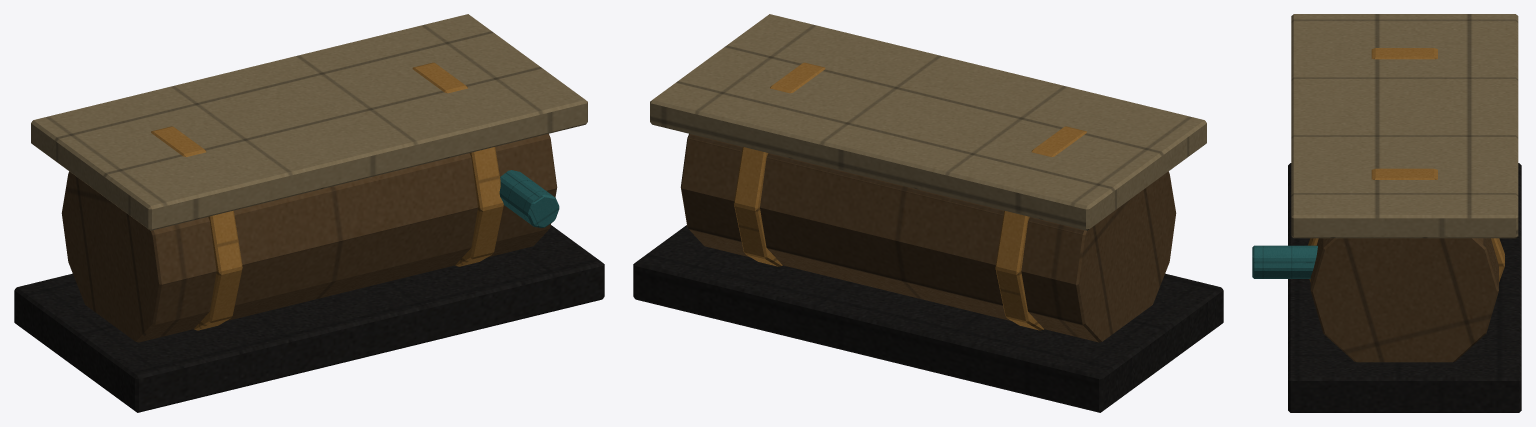
Rendered from water_trough.e5.glb.
3 renders of one model, left to right at view 1: azimuth 30°, elevation 25°; view 2: azimuth 150°, elevation 25°; view 3: azimuth 270°, elevation 25°, orthographic. The views are drawn at different scales.
Parts seen in each view (by area): view 1: WaterTroughE5; view 2: WaterTroughE5; view 3: WaterTroughE5.
Boxes of the visible parts, bbox=[...] form: WaterTroughE5: bbox=[14, 14, 604, 412]; WaterTroughE5: bbox=[633, 14, 1223, 412]; WaterTroughE5: bbox=[1252, 14, 1521, 412].
Bounding box in the file's own units: 1.58 × 0.6548 × 0.83.
Materials: 1 (1 with a texture image).
